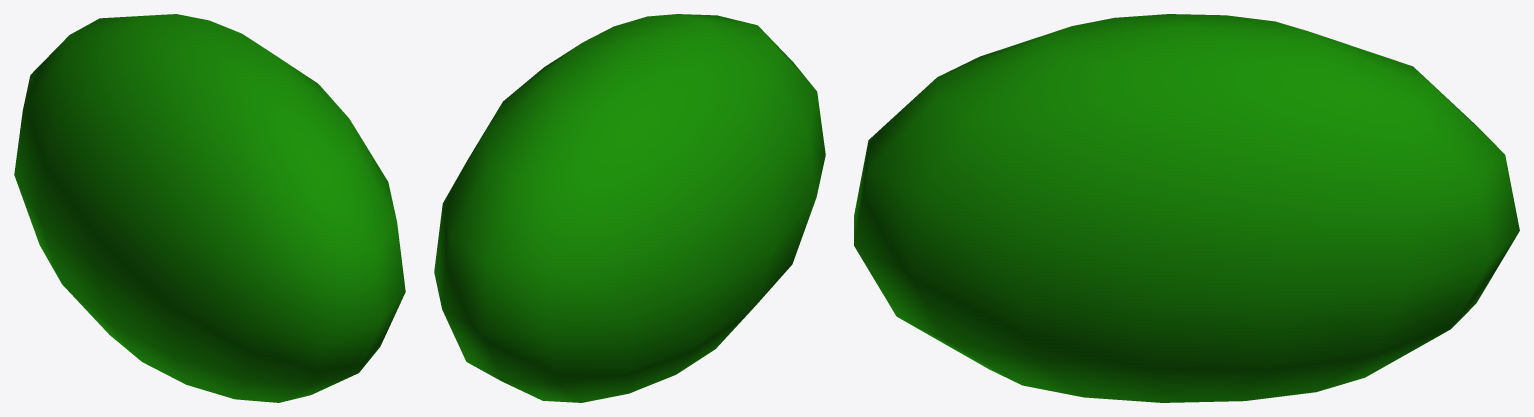
The model's file is chilli seed.FBX.
3 views of the same model, side by side, from view 1: azimuth 30°, elevation 25°; view 2: azimuth 150°, elevation 25°; view 3: azimuth 270°, elevation 25° (orthographic). The views are drawn at different scales.
Visible parts, largest first — view 1: Sphere004; view 2: Sphere004; view 3: Sphere004.
Part boxes in pixels (x1,y1,x2,y2): Sphere004: [14, 14, 405, 402]; Sphere004: [434, 14, 825, 402]; Sphere004: [854, 14, 1519, 402].
Size of the model in its own units: 7.13 by 8.44 by 13.86.
